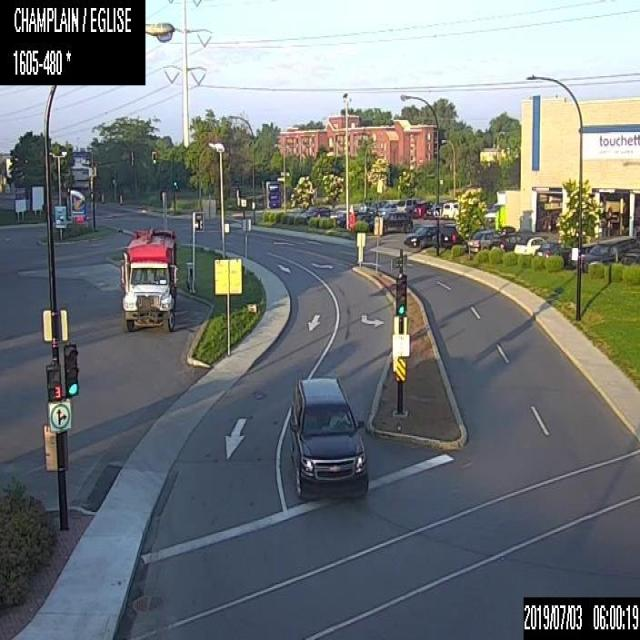vehicle: (289, 375, 368, 493), (120, 226, 179, 329), (581, 235, 635, 271), (488, 224, 526, 250), (534, 241, 570, 267), (404, 224, 442, 247), (483, 189, 505, 223), (512, 236, 552, 254), (568, 241, 596, 266), (463, 228, 494, 250), (438, 221, 462, 247), (382, 210, 412, 230), (619, 240, 639, 266), (348, 212, 369, 229), (413, 200, 430, 217), (376, 200, 396, 214), (368, 199, 386, 214), (295, 209, 317, 221), (442, 201, 458, 217), (362, 213, 377, 230), (396, 198, 416, 210), (426, 202, 442, 217), (329, 212, 345, 226), (358, 200, 373, 212), (313, 208, 332, 216)
